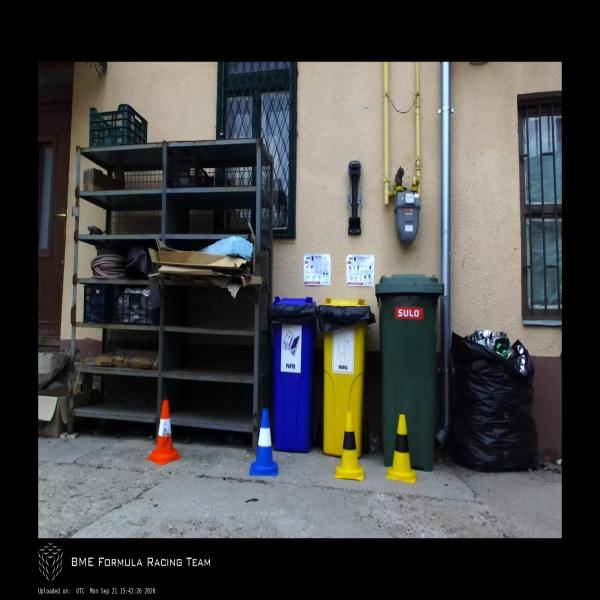blue_cone: (249, 409, 278, 476)
orange_cone: (147, 400, 182, 465)
yellow_cone: (386, 414, 417, 483), (335, 411, 364, 481)
